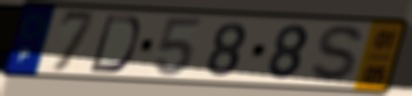5: (152, 16, 207, 78)
7: (53, 8, 96, 75)
8: (266, 23, 311, 82), (206, 21, 249, 78)
D: (86, 13, 143, 75)
S: (307, 22, 368, 86)
